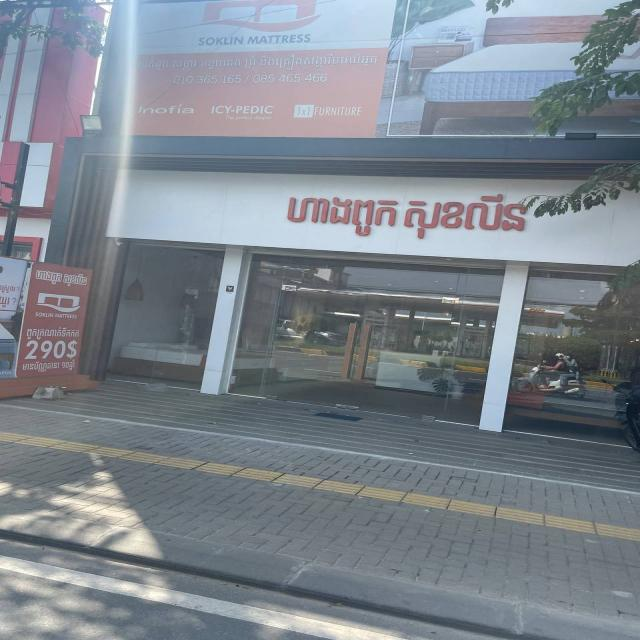1: (273, 186, 537, 250), (32, 266, 92, 292), (20, 358, 78, 372)
221: (171, 72, 332, 86)
3: (133, 51, 381, 73)
698: (20, 338, 81, 360)
Yolov11_80vkh: (25, 324, 81, 340)
